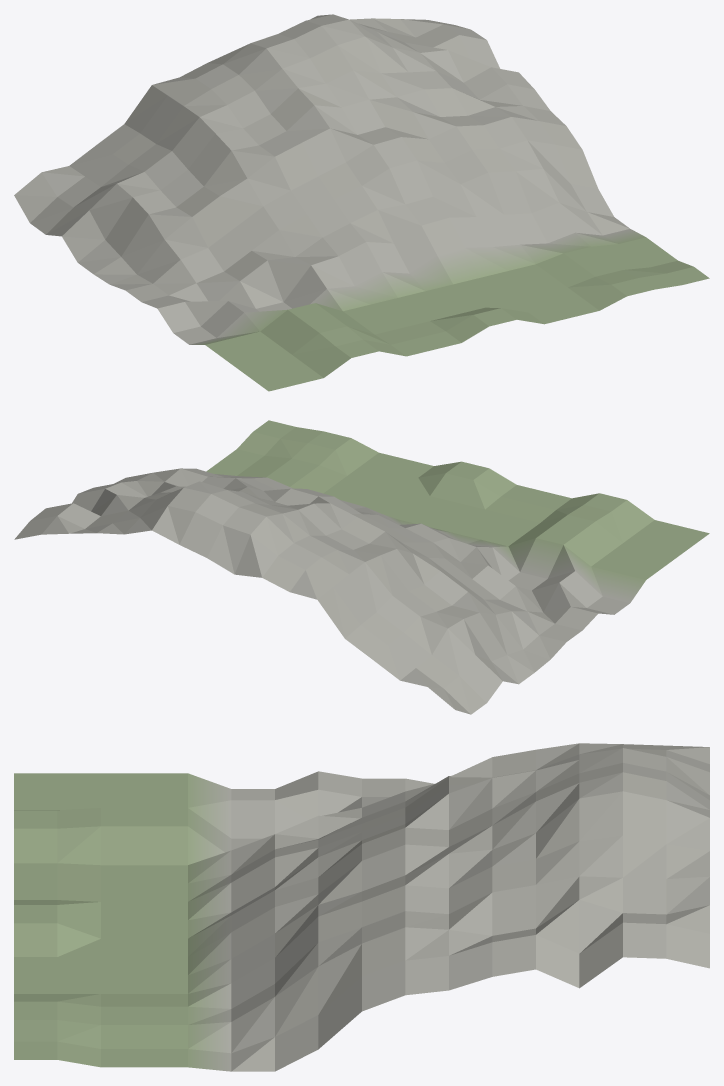
3 views of the same model, one above another, from view 1: azimuth 30°, elevation 25°; view 2: azimuth 150°, elevation 25°; view 3: azimuth 270°, elevation 25° (orthographic). The views are drawn at different scales.
Size of the model in its own units: 32 by 10.18 by 32.
